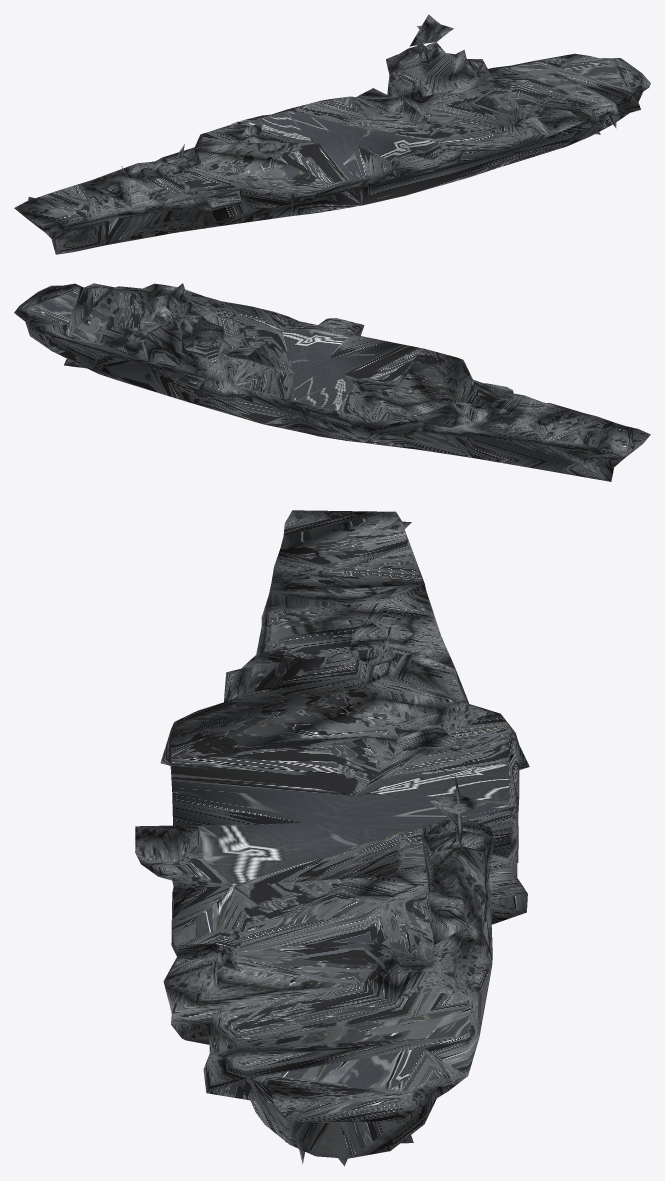
File: nimitz-carrier-meshy-ultra-v1.glb
The picture shows the model from 3 angles, top to bottom: view 1: azimuth 30°, elevation 25°; view 2: azimuth 150°, elevation 25°; view 3: azimuth 270°, elevation 25°; orthographic projection. The views are drawn at different scales.
Size of the model in its own units: 1.9 by 0.3653 by 0.5323.
Materials: 1 (1 with a texture image).
